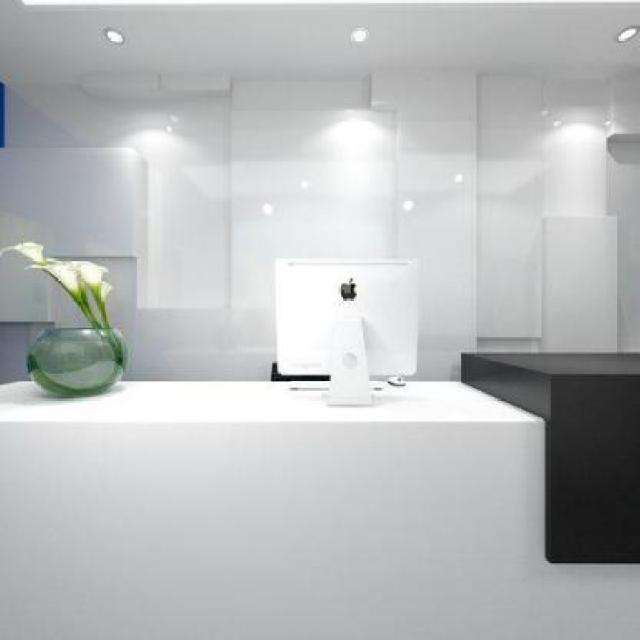frontdesk: (0, 330, 638, 639)
